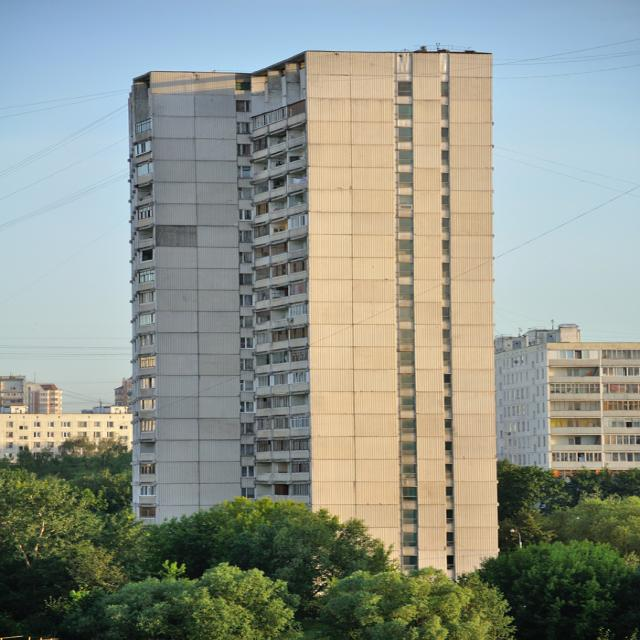window: (394, 148, 414, 168), (398, 349, 417, 368), (398, 196, 416, 214), (398, 509, 418, 525), (400, 531, 420, 547), (396, 240, 413, 257), (396, 306, 414, 322), (398, 80, 414, 97), (397, 373, 415, 388), (397, 175, 416, 189), (402, 489, 421, 503), (393, 262, 415, 274), (397, 328, 414, 343), (402, 417, 417, 434), (399, 219, 415, 234), (400, 462, 415, 477), (398, 104, 414, 118), (400, 127, 414, 143), (400, 395, 416, 409), (400, 285, 414, 299), (402, 443, 417, 454)
